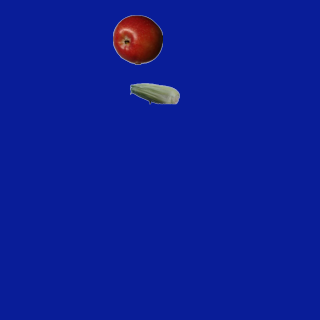Apple Braeburn: (112, 14, 162, 64)
Corn Husk: (129, 68, 179, 118)
